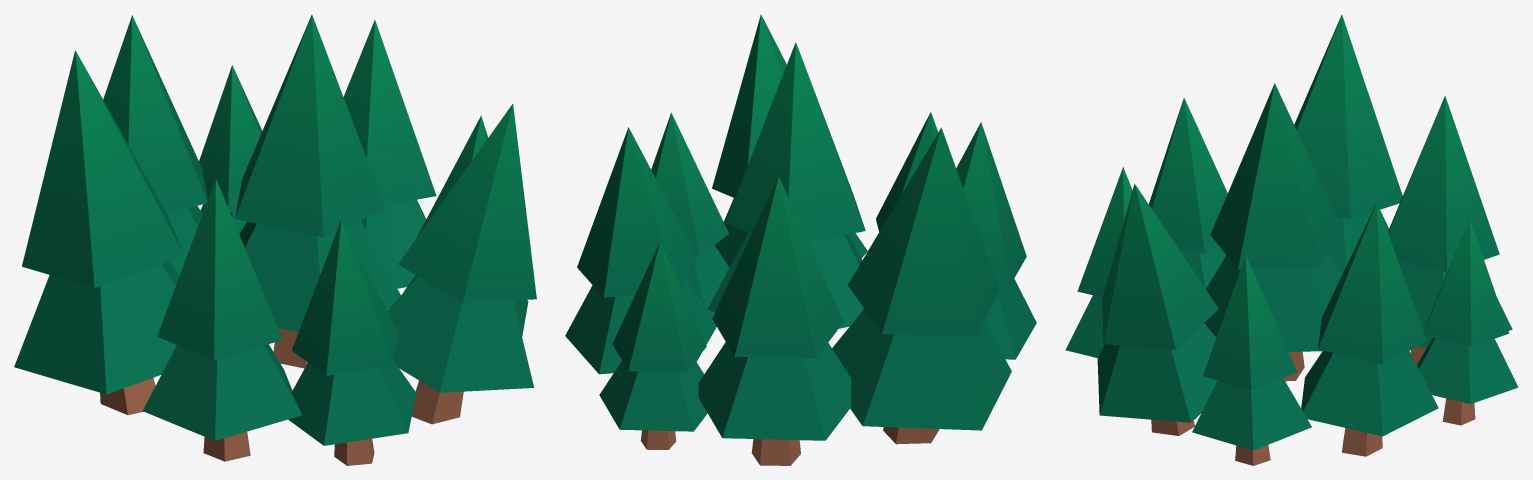
The model's file is d_kaykit_bosquet_petit.glb.
3 renders of one model, left to right at view 1: azimuth 30°, elevation 25°; view 2: azimuth 150°, elevation 25°; view 3: azimuth 270°, elevation 25°, orthographic. The views are drawn at different scales.
Visible parts, largest first — view 1: d_kaykit_bosquet_petit; view 2: d_kaykit_bosquet_petit; view 3: d_kaykit_bosquet_petit.
Boxes of the visible parts, bbox=[...] form: d_kaykit_bosquet_petit: bbox=[14, 14, 536, 465]; d_kaykit_bosquet_petit: bbox=[565, 14, 1036, 465]; d_kaykit_bosquet_petit: bbox=[1065, 14, 1518, 465].
Bounding box in the file's own units: 1.43 × 1.11 × 1.44.
1 material, 1 textured.
